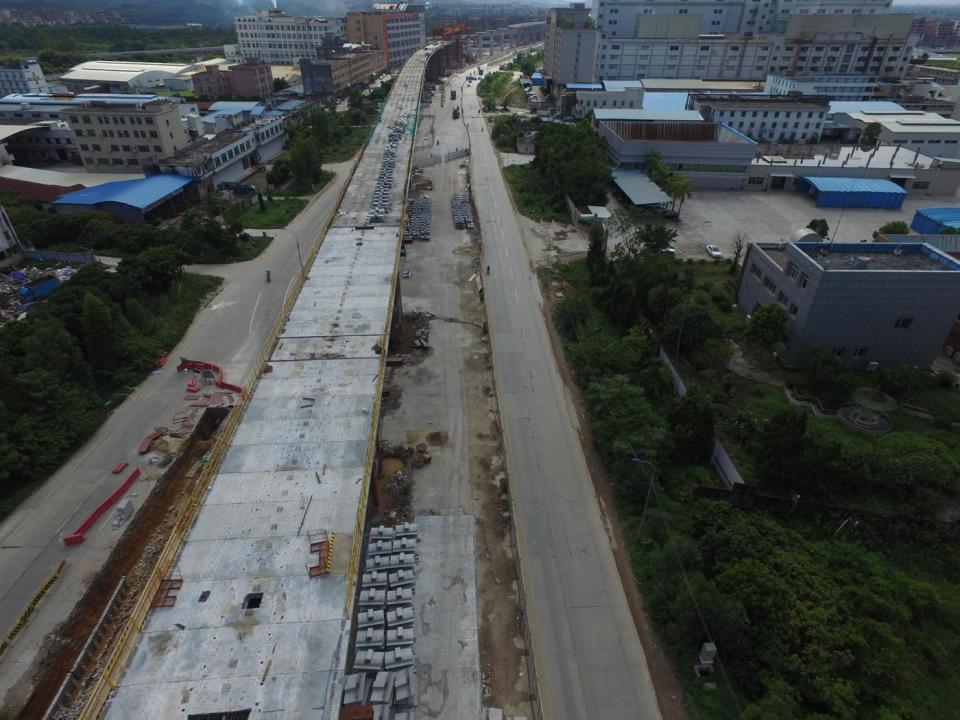car: (652, 248, 676, 258), (646, 200, 664, 211), (662, 210, 679, 219), (708, 245, 721, 256), (653, 208, 668, 215)
truck: (17, 274, 60, 304), (233, 184, 259, 197), (536, 109, 551, 118), (359, 92, 374, 100), (452, 105, 460, 119), (450, 88, 456, 100)
van: (336, 99, 341, 104)
